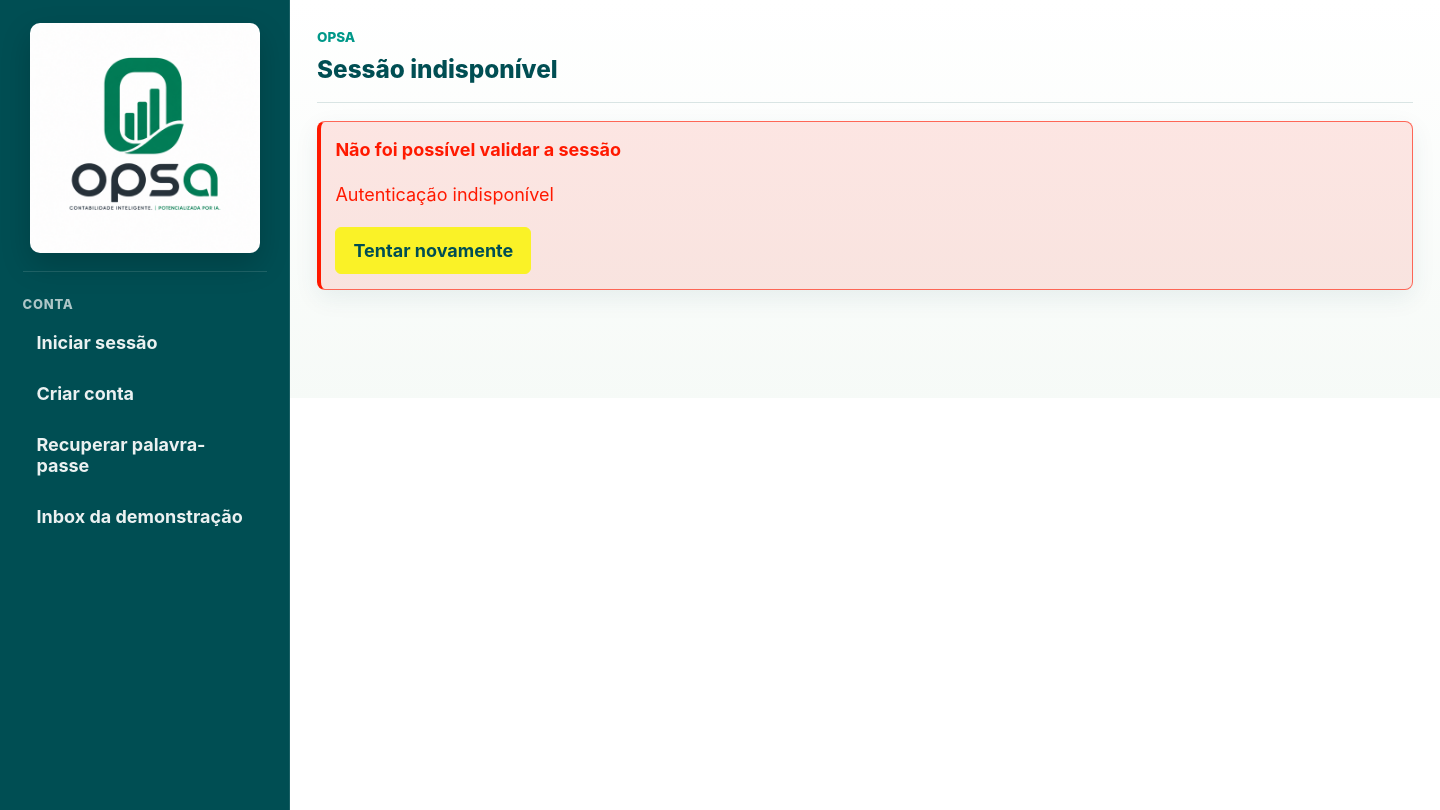
Test: App com transporte MSW › distingue falha de bootstrap de sessão anónima e permite retry
Expected: the heading "Sessão indisponível" is shown, [317,54,558,84]
Click the button "Tentar novamente": (433, 251) [335,227,531,274]
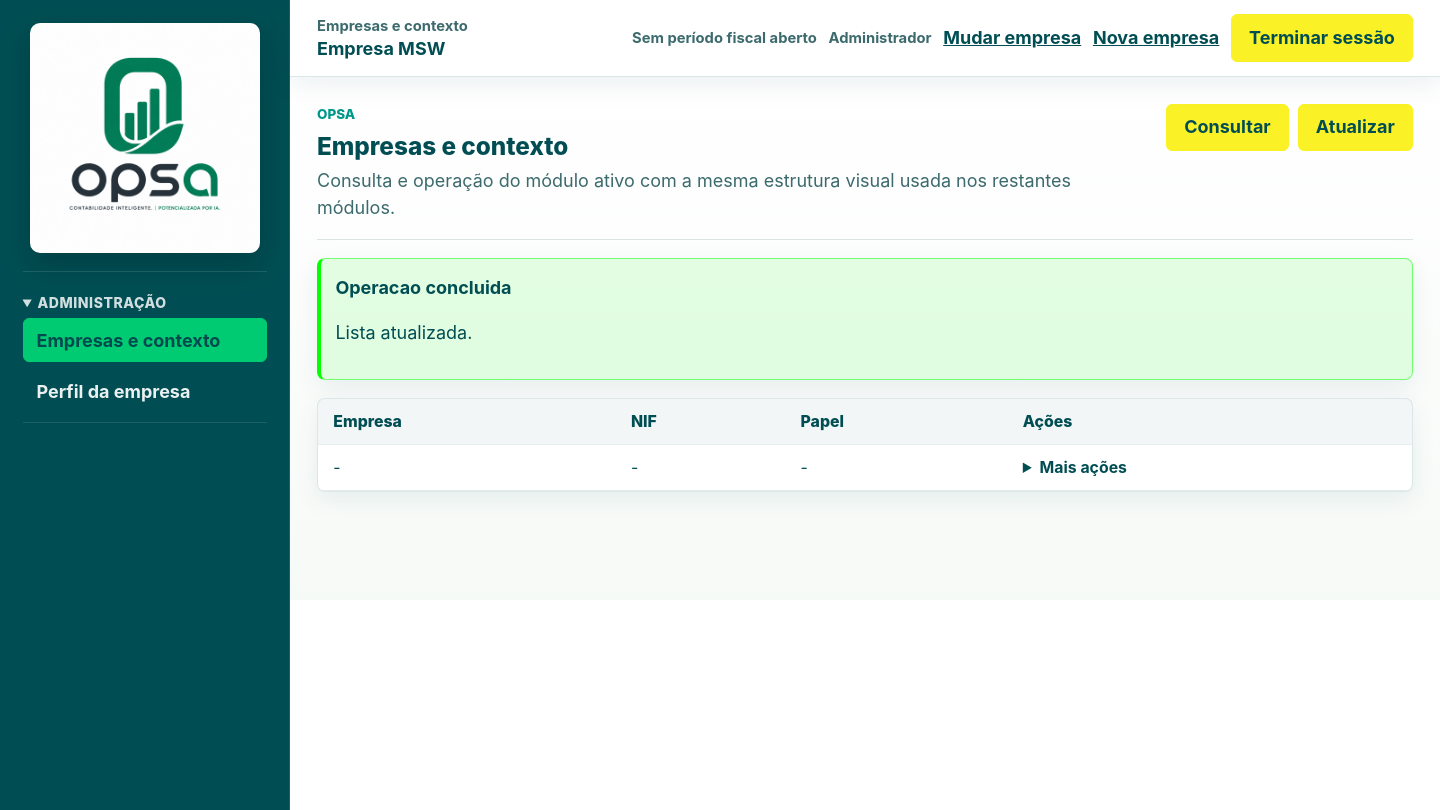
Result: the heading "Empresas e contexto" is shown at [317,131,568,161]
